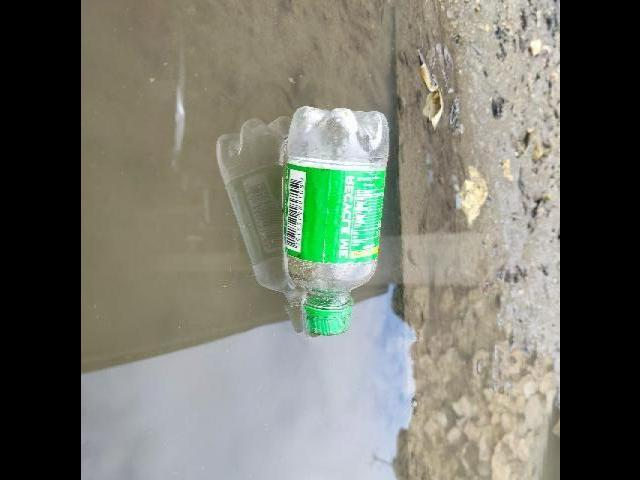Bottle: (269, 98, 393, 346)
